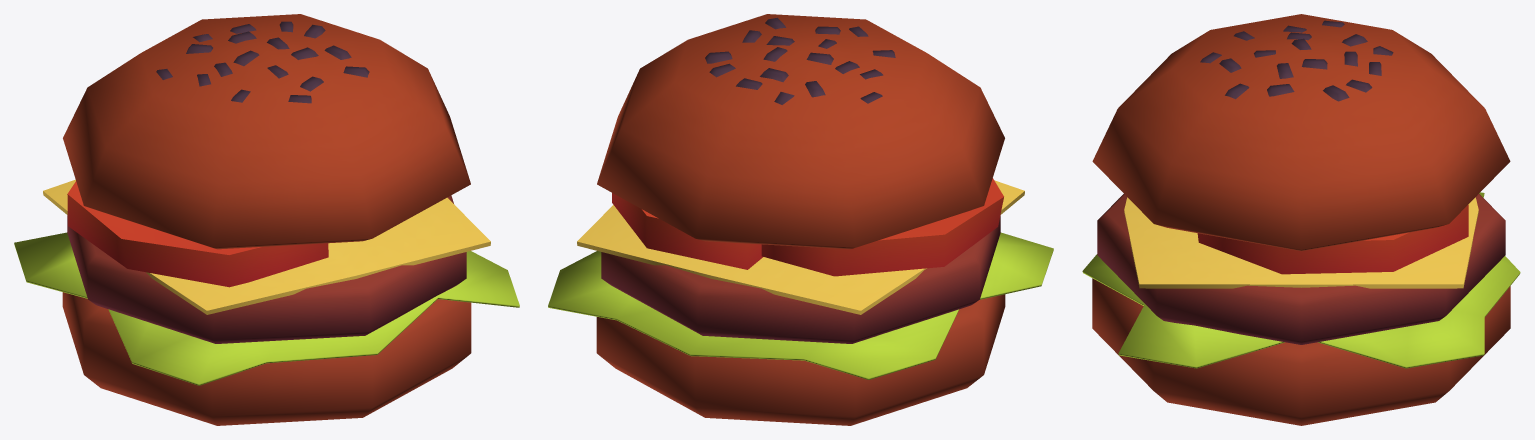
File: HamburguerVar3.fbx
The picture shows the model from 3 angles, left to right: view 1: azimuth 30°, elevation 25°; view 2: azimuth 150°, elevation 25°; view 3: azimuth 270°, elevation 25°; orthographic projection.
Visible parts, largest first — view 1: HamburgerVar3; view 2: HamburgerVar3; view 3: HamburgerVar3.
Part boxes in pixels (x1=…): HamburgerVar3: x1=14, y1=14, x2=519, y2=425; HamburgerVar3: x1=548, y1=14, x2=1053, y2=425; HamburgerVar3: x1=1082, y1=14, x2=1520, y2=425.
Size of the model in its own units: 0.2343 by 0.2393 by 0.1769.
